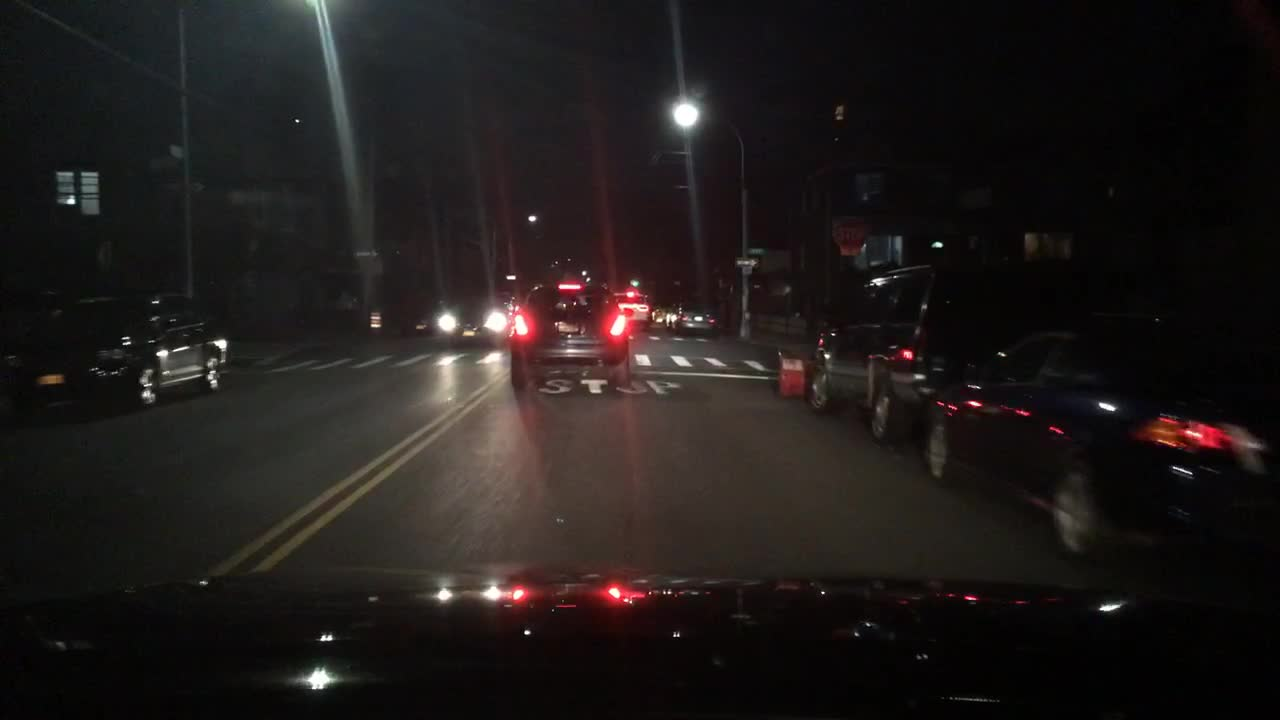car: (928, 325, 1279, 560), (804, 260, 1039, 448), (22, 286, 230, 414), (510, 279, 630, 389), (437, 292, 512, 348), (614, 290, 650, 330), (680, 307, 715, 335), (666, 306, 681, 330), (652, 306, 667, 324)
traffic sign: (827, 215, 870, 257), (159, 177, 205, 194), (149, 155, 178, 167), (735, 257, 761, 266), (354, 249, 377, 258), (170, 143, 183, 158), (746, 247, 767, 254), (503, 274, 517, 281)
